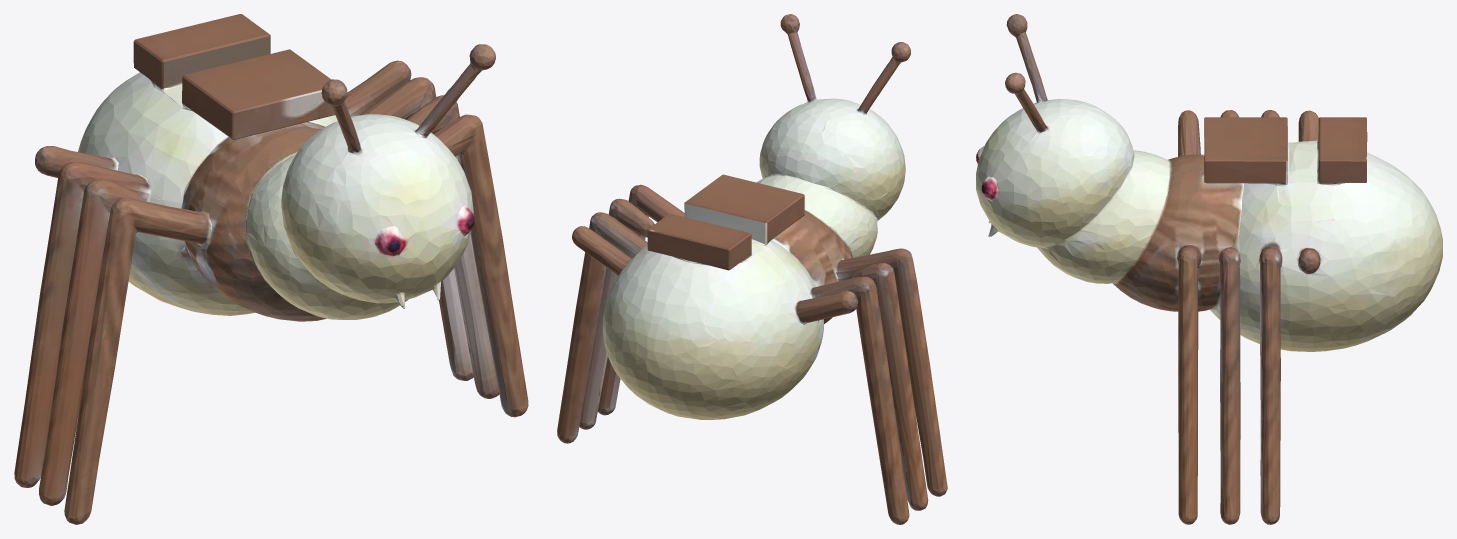
The model's file is creature-092.lod.glb.
3 renders of one model, left to right at view 1: azimuth 30°, elevation 25°; view 2: azimuth 150°, elevation 25°; view 3: azimuth 270°, elevation 25°, orthographic. The views are drawn at different scales.
Visible parts, largest first — view 1: tmp_cubt087.ply; view 2: tmp_cubt087.ply; view 3: tmp_cubt087.ply.
Part boxes in pixels (bbox=[...]): tmp_cubt087.ply: bbox=[14, 14, 528, 524]; tmp_cubt087.ply: bbox=[557, 14, 947, 524]; tmp_cubt087.ply: bbox=[976, 14, 1442, 524].
Bounding box in the file's own units: 1.86 × 1.86 × 1.99.
1 material, 1 textured.
